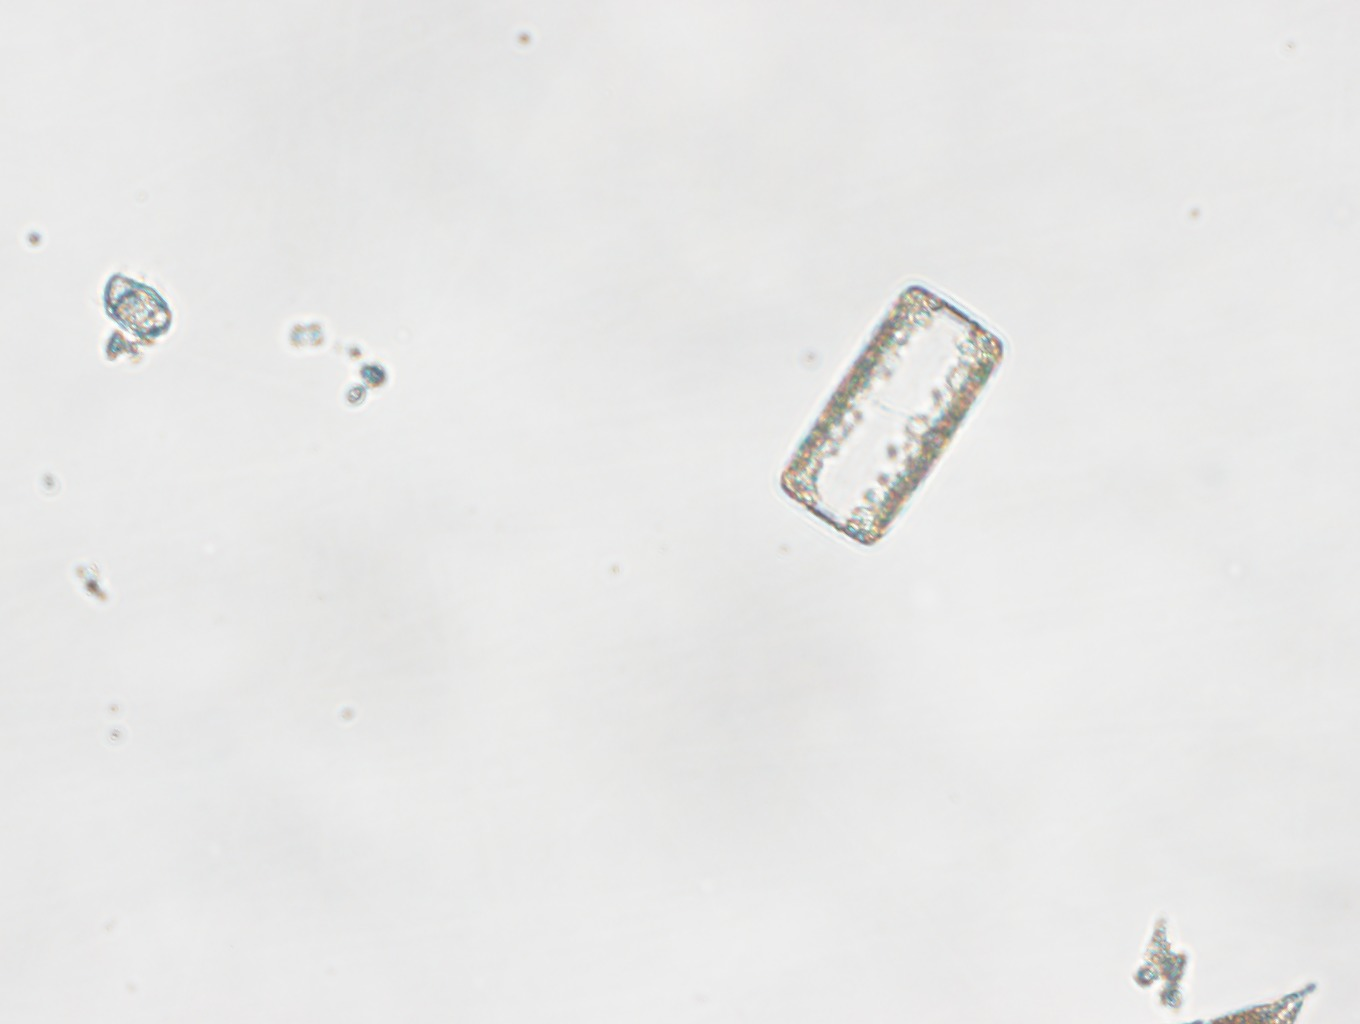coscinodiscus flank: (779, 283, 1006, 547)
